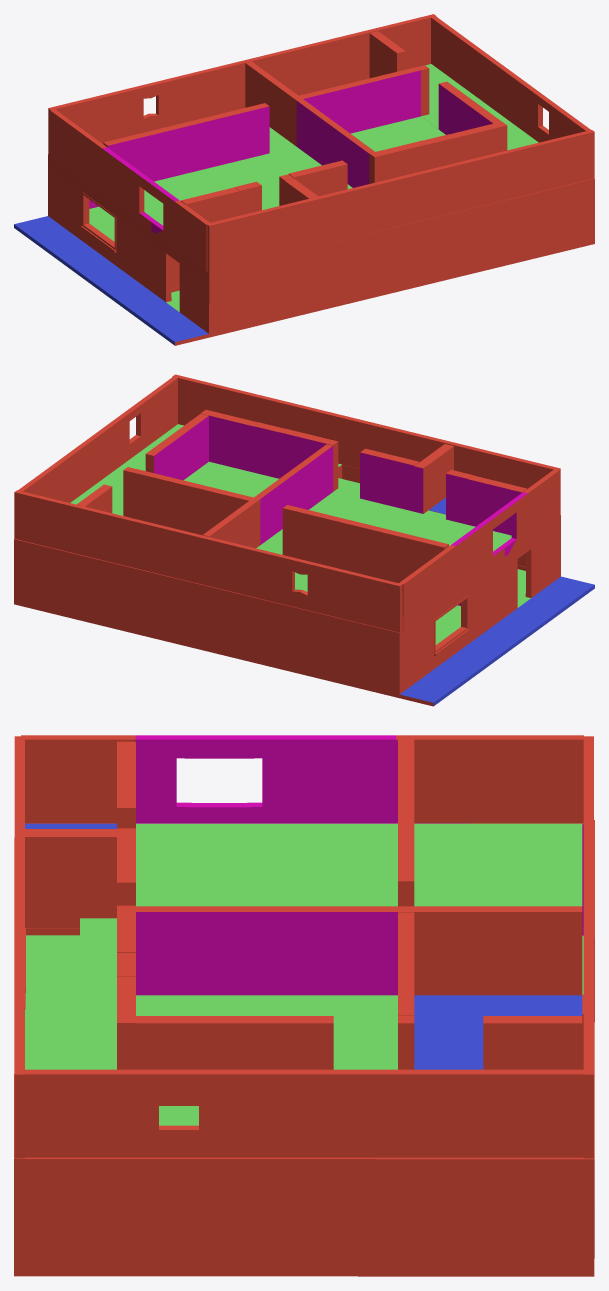
File: HouseOutlineFinal.fbx
The picture shows the model from 3 angles, top to bottom: view 1: azimuth 30°, elevation 25°; view 2: azimuth 150°, elevation 25°; view 3: azimuth 270°, elevation 25°; orthographic projection. The views are drawn at different scales.
Visible parts, largest first — view 1: Wall_Living/Kitchen; view 2: Wall_Living/Kitchen; view 3: Wall_Living/Kitchen.
Boxes of the visible parts, x1=… form: Wall_Living/Kitchen: x1=14, y1=14, x2=594, y2=345; Wall_Living/Kitchen: x1=14, y1=374, x2=594, y2=706; Wall_Living/Kitchen: x1=14, y1=735, x2=594, y2=1276.
Size of the model in its own units: 2793 by 718 by 1860.
